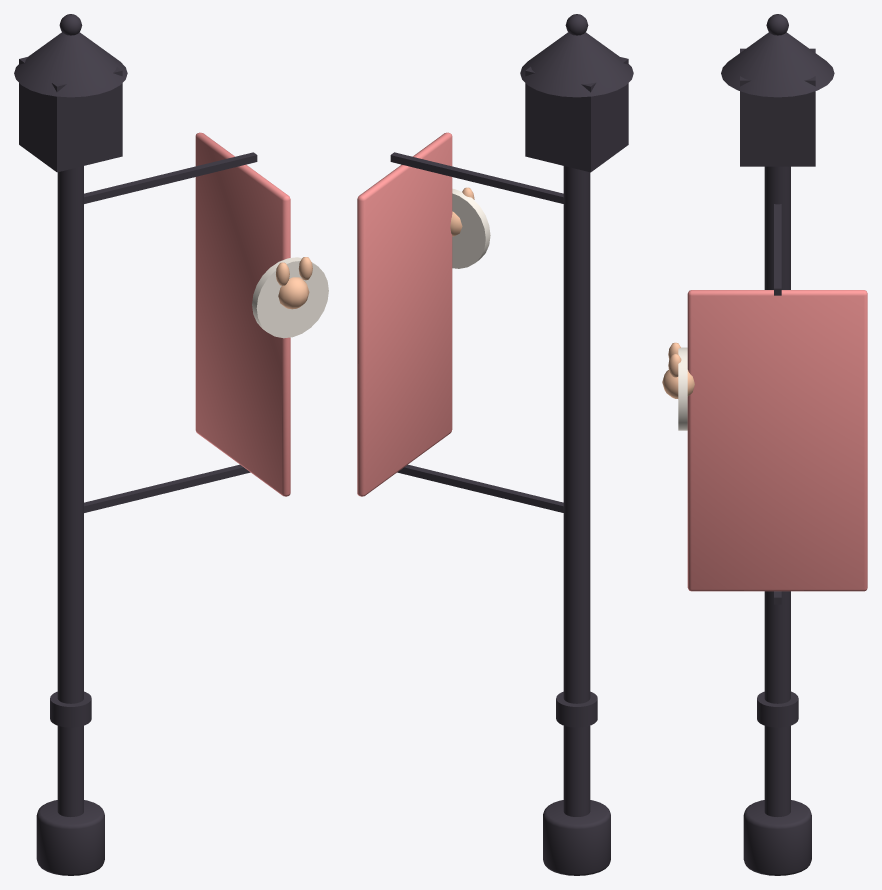
File: lamp_post_pink.glb
3 renders of one model, left to right at view 1: azimuth 30°, elevation 25°; view 2: azimuth 150°, elevation 25°; view 3: azimuth 270°, elevation 25°, orthographic.
Parts seen in each view (by area): view 1: lamp_post_pink; view 2: lamp_post_pink; view 3: lamp_post_pink.
Boxes of the visible parts, box(x1,y1,x2,y2) form: lamp_post_pink: box(14, 14, 328, 875); lamp_post_pink: box(357, 14, 633, 875); lamp_post_pink: box(662, 14, 867, 875).
Bounding box in the file's own units: 1.57 × 4.94 × 1.09.
